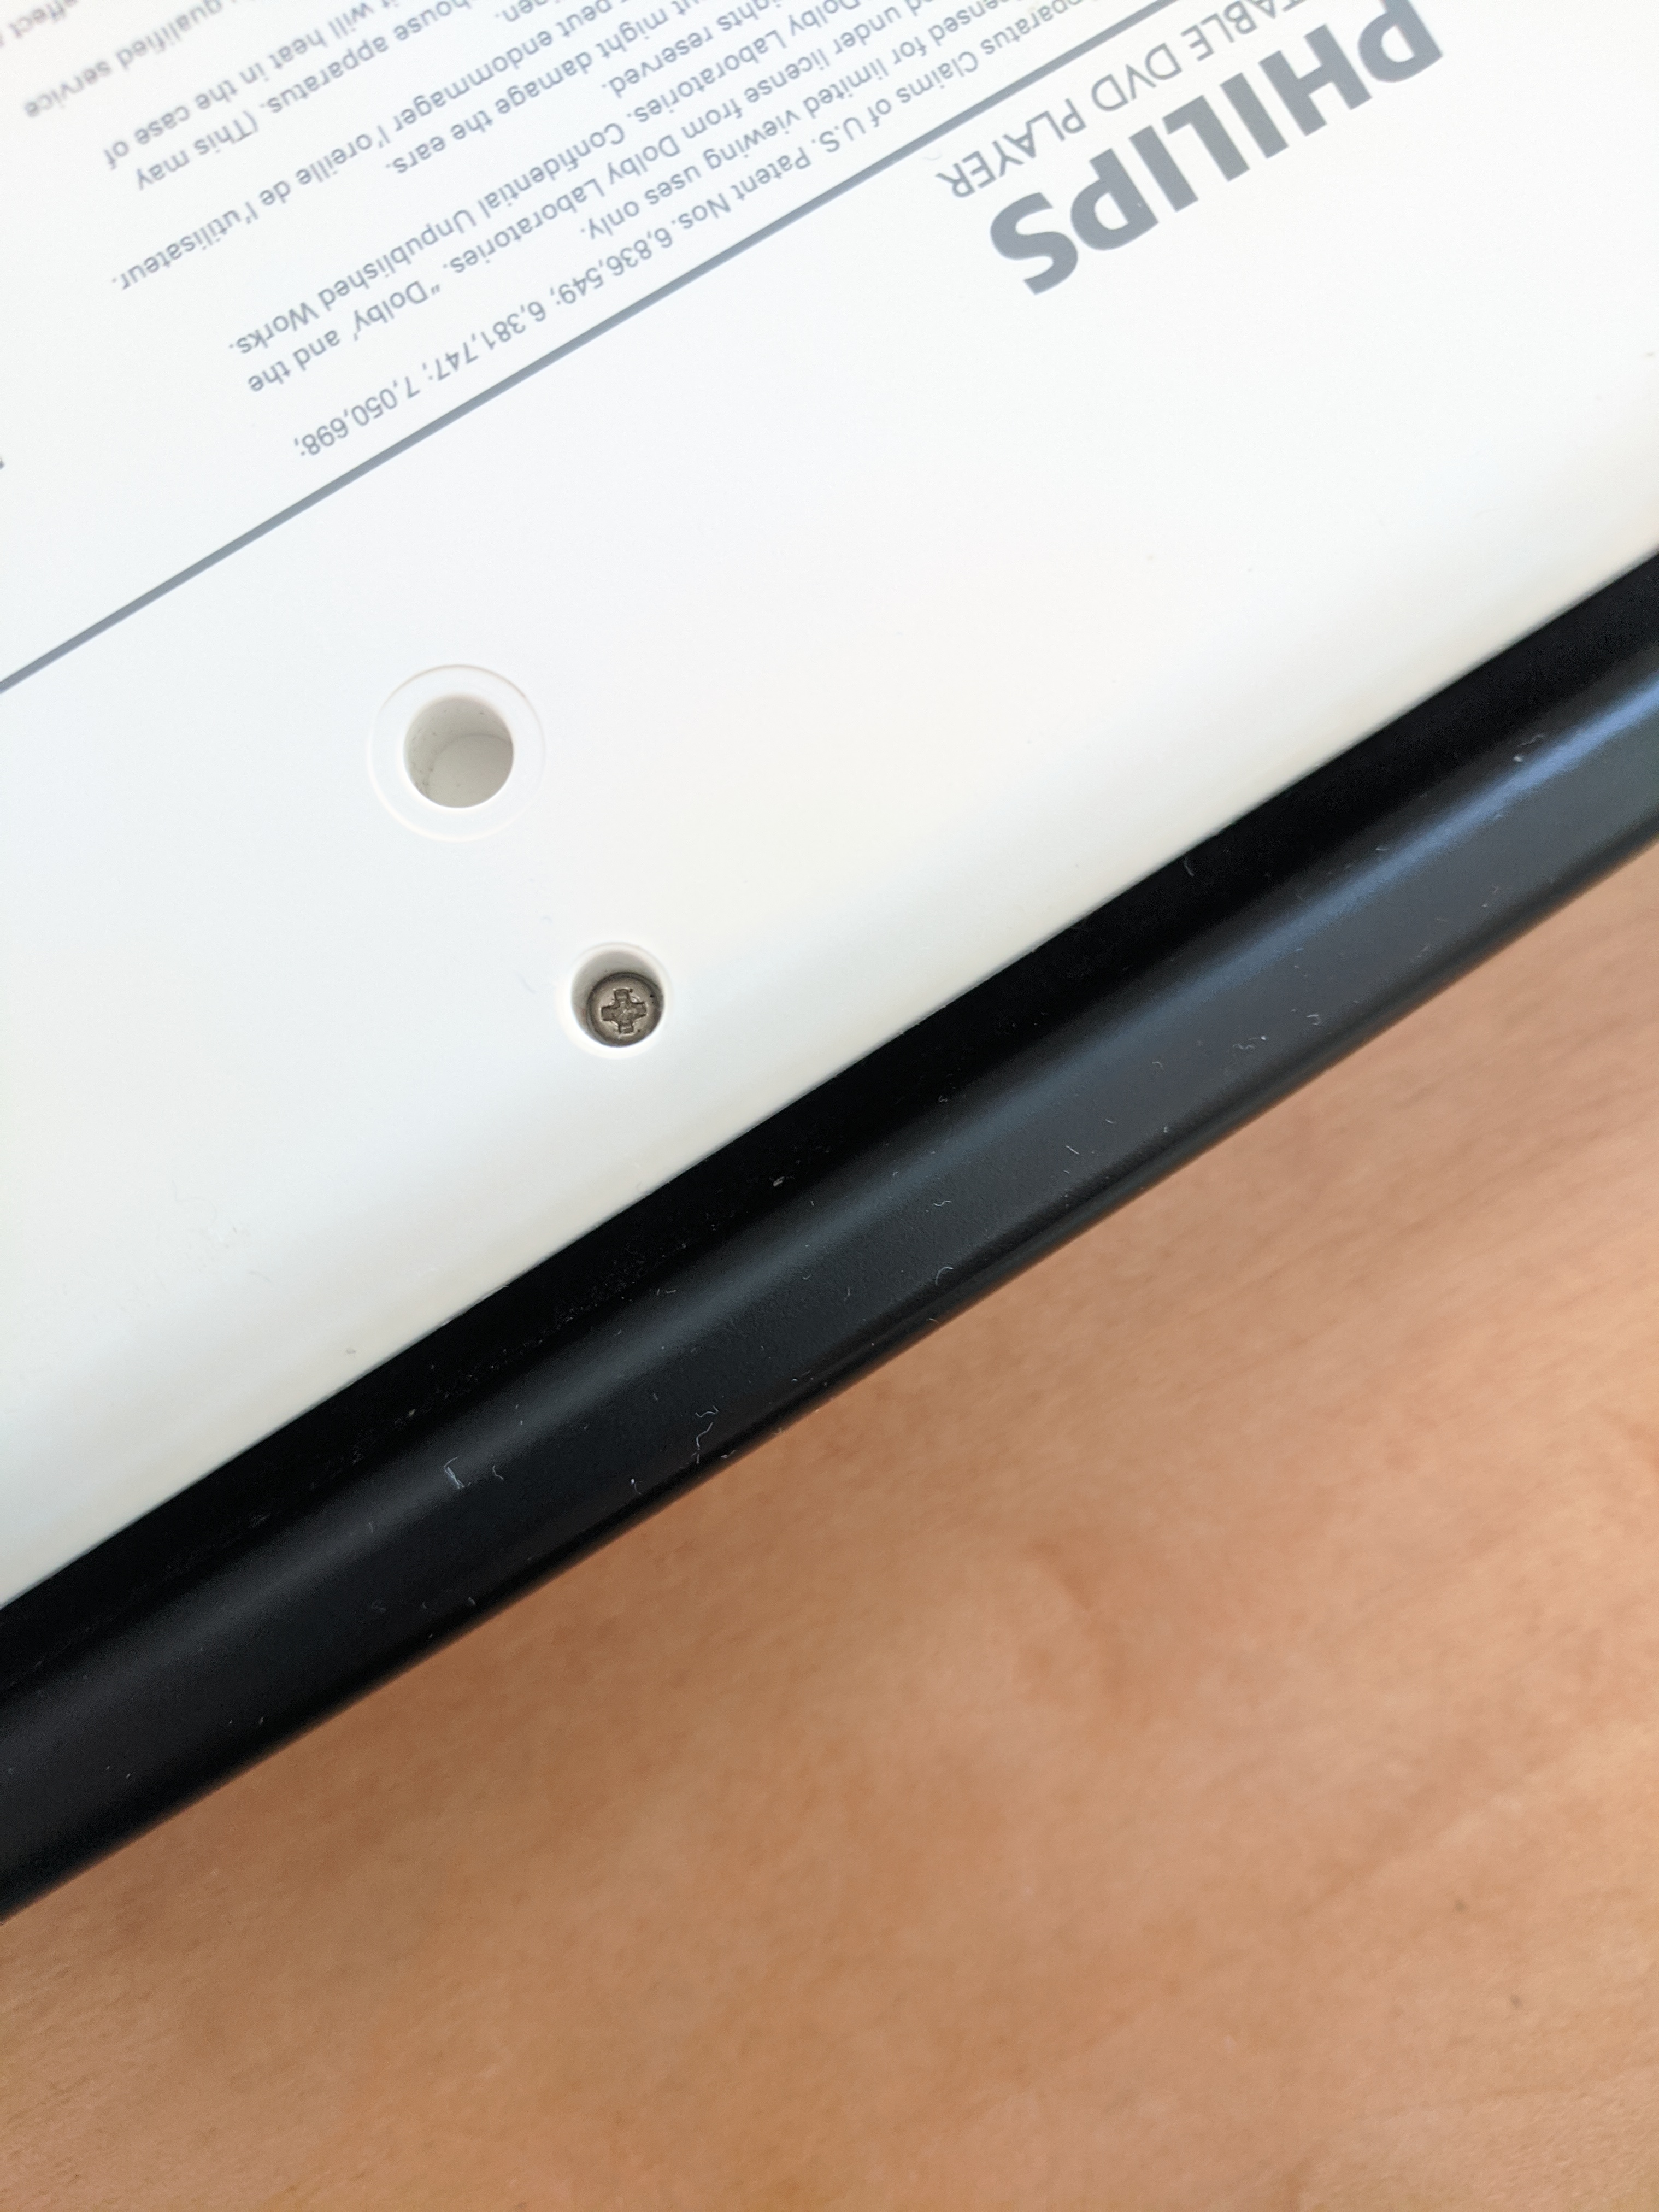cross_recessed_screw: (554, 948, 669, 1045)
